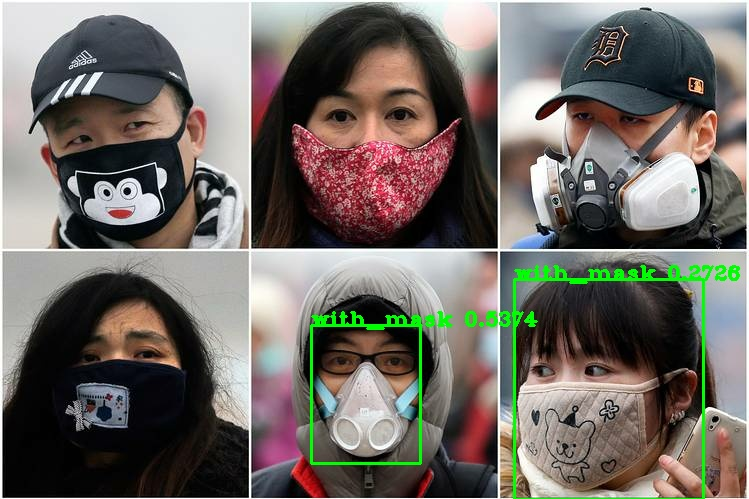with_mask: (23, 290, 224, 472), (32, 74, 215, 236), (511, 338, 697, 487), (529, 92, 719, 237), (292, 62, 456, 223), (306, 317, 438, 460)
